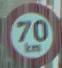Speed limit: (1, 2, 57, 63)
